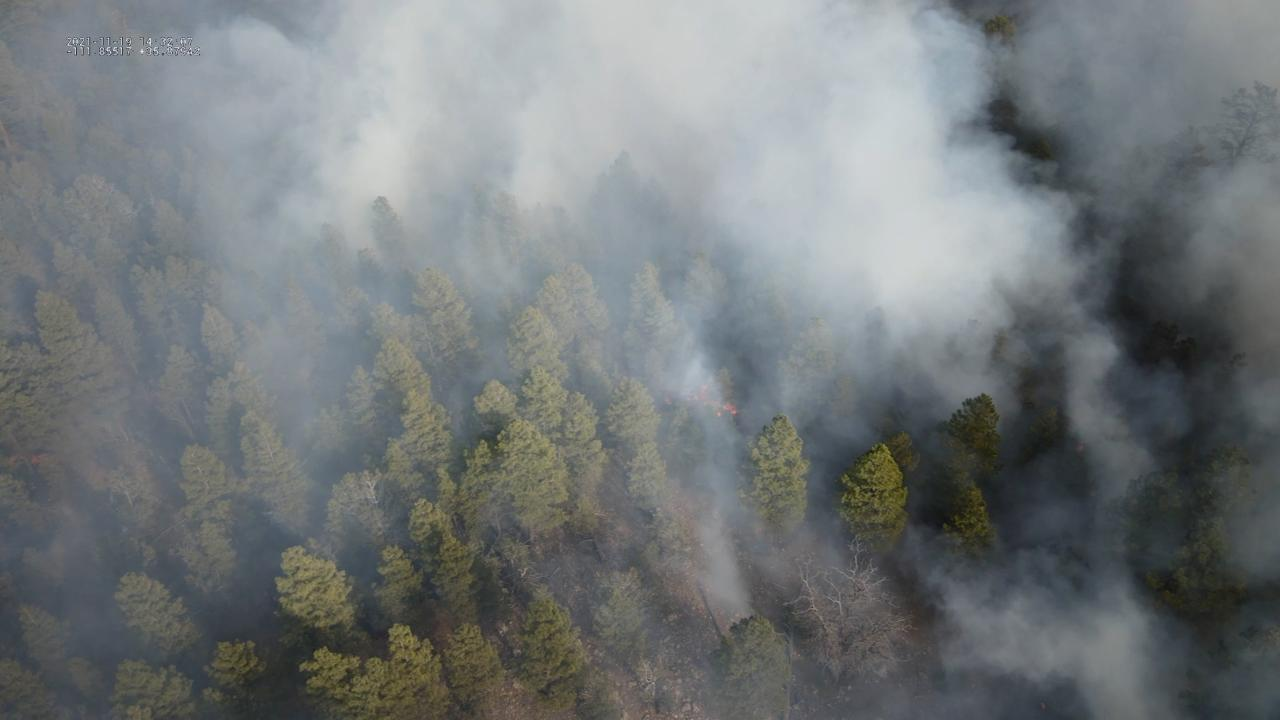fire: (696, 383, 738, 419), (28, 451, 43, 468), (1073, 444, 1087, 454)
smoke: (0, 0, 1280, 720)
